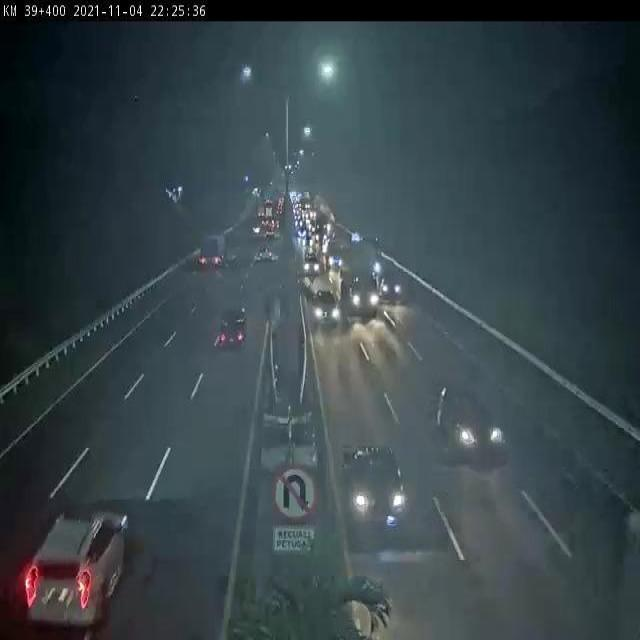Car: (22, 501, 134, 634), (340, 446, 408, 539), (436, 386, 506, 464), (312, 288, 340, 330), (378, 275, 404, 303), (255, 246, 276, 267), (304, 256, 320, 276), (327, 254, 342, 269), (316, 232, 330, 241), (303, 236, 312, 248), (298, 229, 306, 237)
Truck: (341, 261, 378, 320), (198, 233, 228, 273)
Van: (216, 299, 248, 350)
